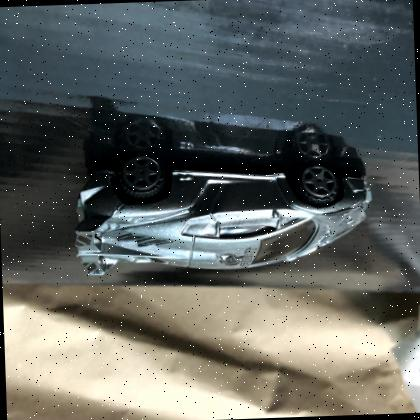Car: (74, 153, 371, 276)
